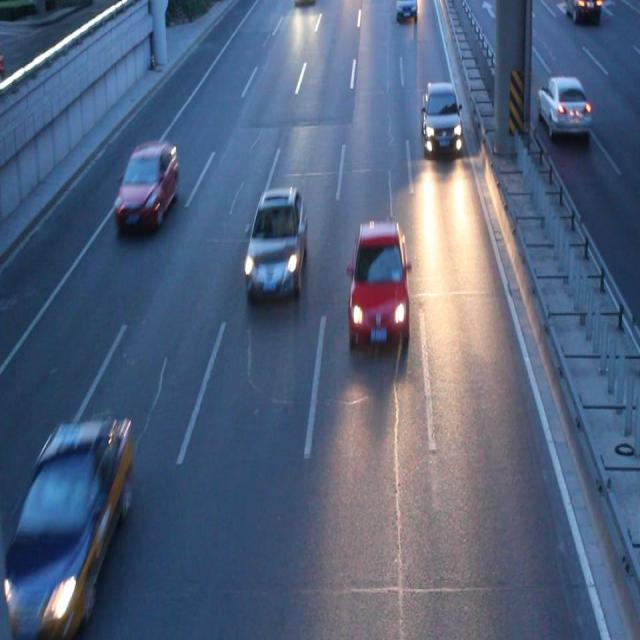car: (12, 419, 130, 610), (348, 222, 410, 347), (244, 189, 306, 302), (113, 140, 177, 231), (419, 82, 462, 155)
